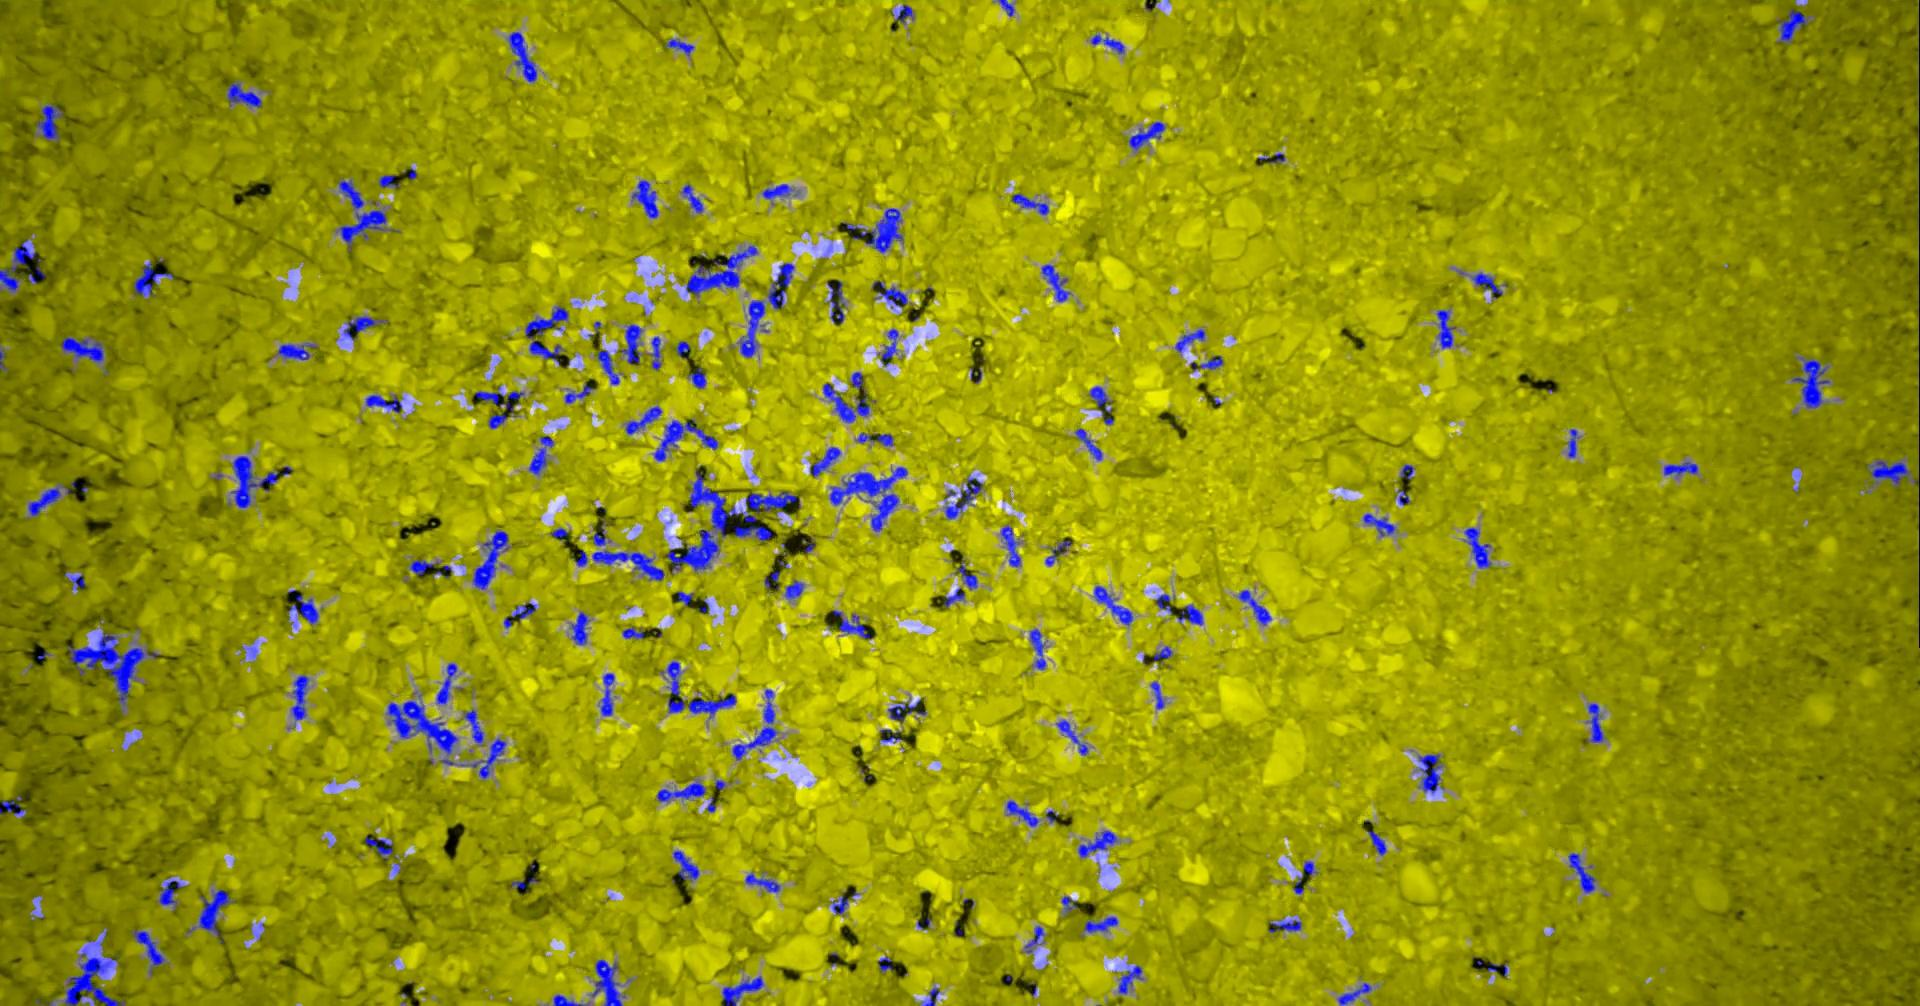ant: (662, 661, 735, 716), (230, 455, 291, 507), (731, 688, 776, 760), (842, 208, 903, 251), (653, 419, 717, 460), (524, 306, 568, 365), (665, 528, 717, 572), (592, 550, 664, 580), (472, 530, 508, 589), (338, 210, 386, 251), (1790, 357, 1829, 406), (460, 738, 505, 779), (0, 239, 36, 291), (823, 382, 869, 422), (739, 300, 768, 357), (945, 478, 982, 520), (590, 959, 623, 1005), (507, 30, 536, 81), (132, 929, 164, 974), (1095, 586, 1131, 625), (198, 889, 229, 936), (472, 386, 523, 413), (133, 262, 173, 295), (721, 976, 763, 1005), (745, 490, 799, 513), (1238, 589, 1271, 625), (767, 263, 792, 307), (1567, 852, 1595, 892), (60, 337, 103, 362), (1057, 719, 1087, 754), (1867, 459, 1909, 484), (1464, 527, 1490, 568), (36, 104, 63, 141), (1128, 121, 1164, 149), (1041, 264, 1069, 301), (625, 406, 662, 434), (631, 180, 658, 218), (343, 316, 387, 339), (1078, 829, 1116, 856), (1778, 8, 1807, 42), (618, 324, 643, 365), (528, 434, 552, 474), (871, 279, 907, 306), (809, 446, 839, 476), (657, 782, 705, 801), (28, 486, 60, 514), (227, 81, 262, 107), (888, 699, 926, 721), (1418, 754, 1441, 793), (999, 525, 1020, 567), (287, 594, 317, 622), (337, 179, 363, 210), (1472, 272, 1502, 298), (672, 850, 698, 880), (1076, 428, 1101, 460), (503, 602, 535, 627), (1006, 800, 1037, 826), (436, 663, 456, 702), (291, 674, 309, 719), (1337, 982, 1371, 1005), (827, 279, 844, 323), (838, 614, 870, 638), (1011, 193, 1048, 213), (159, 876, 184, 906), (597, 349, 618, 384), (1436, 310, 1455, 348), (1117, 965, 1142, 995), (877, 328, 897, 365), (277, 342, 316, 359), (1029, 627, 1045, 669), (1363, 513, 1394, 535), (364, 394, 403, 412), (1090, 34, 1124, 53), (1586, 702, 1603, 742), (1045, 540, 1070, 565), (599, 673, 615, 715), (364, 836, 392, 859), (1175, 329, 1204, 351), (1090, 386, 1111, 415), (463, 709, 483, 742), (744, 873, 778, 890), (564, 382, 596, 401), (681, 184, 702, 212), (955, 560, 977, 588), (1083, 916, 1117, 932), (0, 795, 25, 817), (571, 611, 588, 644), (1023, 925, 1043, 951), (1189, 354, 1222, 370), (1663, 461, 1697, 476), (1177, 605, 1203, 624), (1366, 829, 1385, 855), (409, 559, 438, 575), (665, 38, 693, 55), (856, 432, 891, 445), (762, 183, 791, 198), (943, 587, 964, 607), (592, 523, 611, 545), (1269, 920, 1300, 932), (1150, 681, 1164, 708), (783, 580, 803, 598), (688, 367, 705, 387), (552, 995, 585, 1005), (1567, 428, 1578, 457), (510, 876, 536, 889), (895, 4, 913, 22), (27, 265, 44, 283), (1156, 594, 1172, 614), (997, 0, 1015, 17), (651, 337, 660, 370), (832, 895, 848, 913), (879, 729, 902, 742), (1152, 647, 1172, 661), (488, 413, 505, 428), (66, 574, 84, 589), (923, 987, 938, 1005), (378, 174, 397, 188), (764, 570, 778, 589), (1487, 962, 1506, 976), (676, 340, 690, 358), (676, 591, 693, 605), (622, 626, 643, 638), (1399, 464, 1413, 479), (1062, 895, 1077, 909), (851, 372, 863, 389), (574, 550, 587, 567), (550, 528, 568, 540), (877, 956, 891, 970), (1302, 860, 1314, 875), (1398, 488, 1410, 504), (803, 539, 815, 553)
